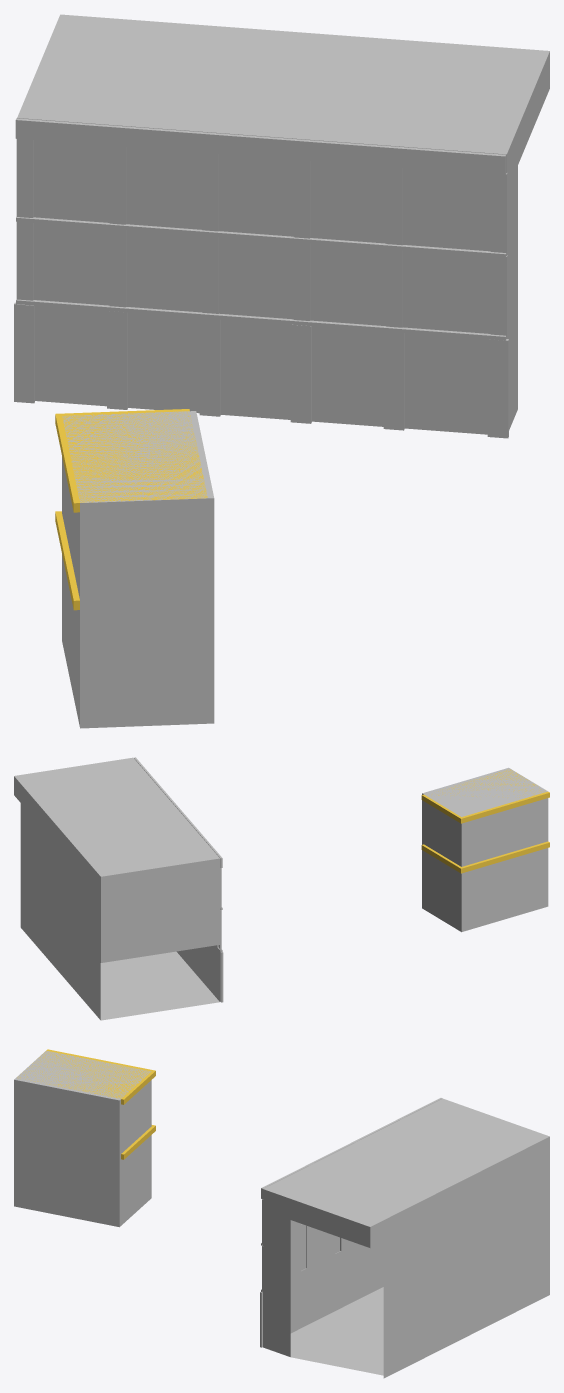
Rendered from Havana.fbx.
The picture shows the model from 3 angles, top to bottom: view 1: azimuth 30°, elevation 25°; view 2: azimuth 150°, elevation 25°; view 3: azimuth 270°, elevation 25°; orthographic projection. The views are drawn at different scales.
Visible parts, largest first — view 1: BoxBrush114_1, BoxBrush114_0, SM_Cube8, BoxBrush114_56, BoxBrush114_22, BoxBrush114_10, BoxBrush114_30, BoxBrush114_28, BoxBrush114_29, BoxBrush114_25, BoxBrush114_24, BoxBrush114_27 (+13 smaller); view 2: BoxBrush114_1, BoxBrush114_0, SM_Cube8, SM_Cube7, BoxBrush114_56; view 3: BoxBrush114_1, BoxBrush114_0, SM_Cube8, BoxBrush114_56.
Part boxes in pixels (x1,y1,x2,y2): BoxBrush114_1: (17,14,549,434); BoxBrush114_0: (62,411,214,728); SM_Cube8: (55,409,207,512); BoxBrush114_56: (15,118,505,175); BoxBrush114_22: (16,299,506,340); BoxBrush114_10: (16,217,506,257); BoxBrush114_30: (487,339,508,438); BoxBrush114_28: (290,324,311,423); BoxBrush114_29: (383,331,404,430); BoxBrush114_25: (199,318,220,416); BoxBrush114_24: (14,302,34,403); BoxBrush114_27: (107,311,127,409); BoxBrush114_1: (14,757,220,1020); BoxBrush114_0: (422,767,548,932); SM_Cube8: (421,769,549,823); SM_Cube7: (421,841,549,873); BoxBrush114_56: (134,757,222,867); BoxBrush114_1: (263,1098,549,1378); BoxBrush114_0: (14,1050,151,1227); SM_Cube8: (17,1049,155,1104); BoxBrush114_56: (261,1098,442,1199).
Bounding box in the file's own units: 4251 × 4598 × 1500.
